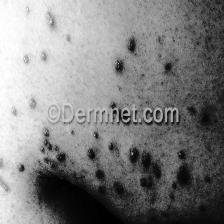Benign Marking or Mole: (87, 129, 209, 208), (111, 37, 178, 87), (34, 127, 65, 173), (0, 143, 25, 195), (38, 4, 67, 38), (6, 93, 41, 118), (21, 47, 54, 70)
